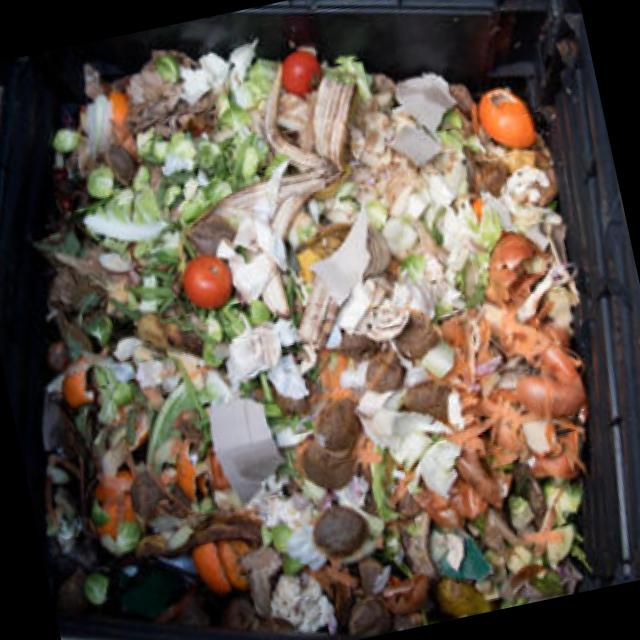paper: (172, 512, 286, 605), (464, 73, 540, 172), (300, 388, 366, 464), (166, 248, 238, 317), (301, 500, 380, 558), (280, 46, 330, 106)
